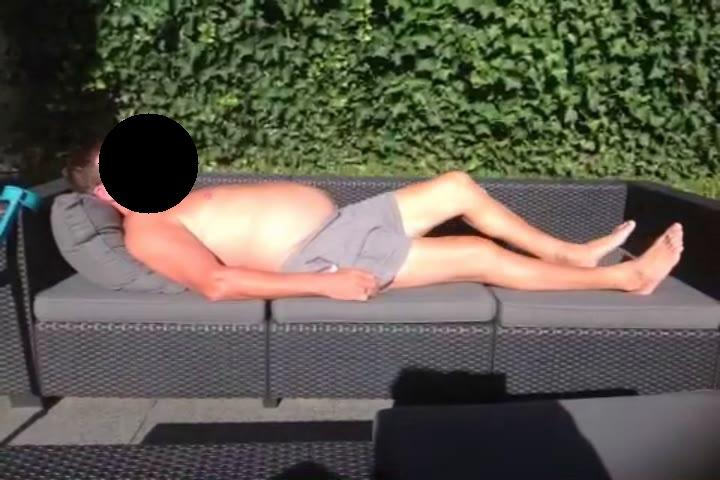lower_body: (319, 170, 686, 299)
